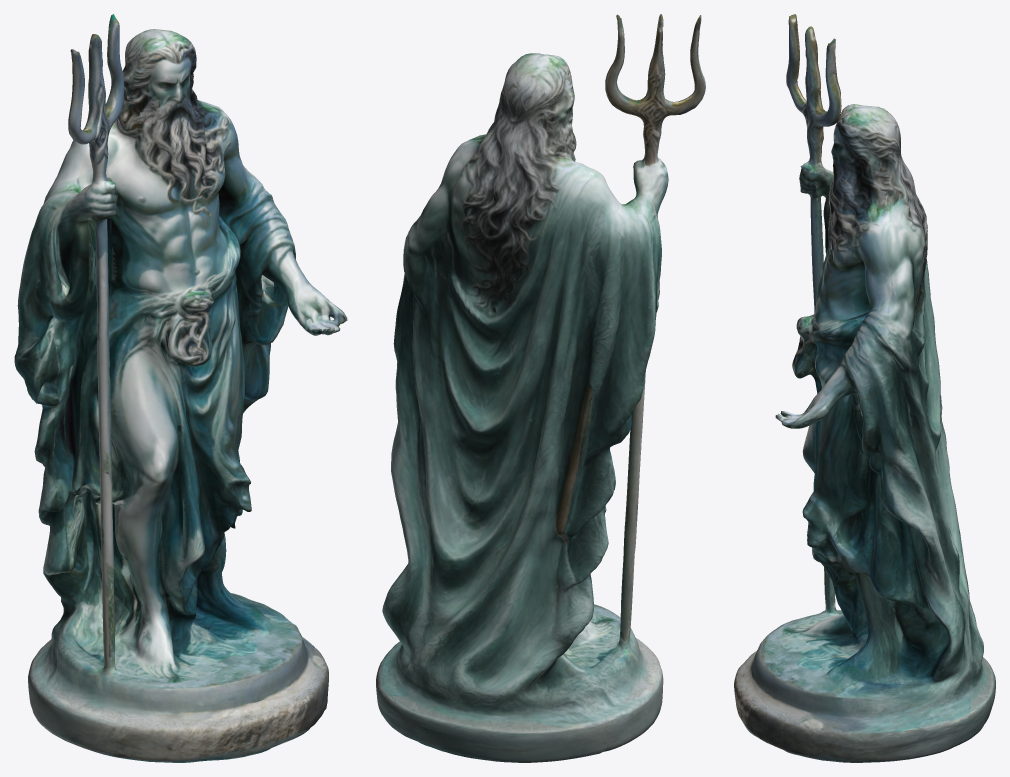
The model's file is A_statue_of_Manannán_0613154954_.fbx.
3 renders of one model, left to right at view 1: azimuth 30°, elevation 25°; view 2: azimuth 150°, elevation 25°; view 3: azimuth 270°, elevation 25°, orthographic. The views are drawn at different scales.
Parts seen in each view (by area): view 1: Mesh1_Mesh1.161; view 2: Mesh1_Mesh1.161; view 3: Mesh1_Mesh1.161.
Part boxes in pixels (bbox=[...]): Mesh1_Mesh1.161: bbox=[14, 14, 347, 762]; Mesh1_Mesh1.161: bbox=[376, 14, 705, 762]; Mesh1_Mesh1.161: bbox=[734, 14, 995, 762].
Size of the model in its own units: 80.84 by 200 by 74.54.
Materials: 1 (1 with a texture image).
